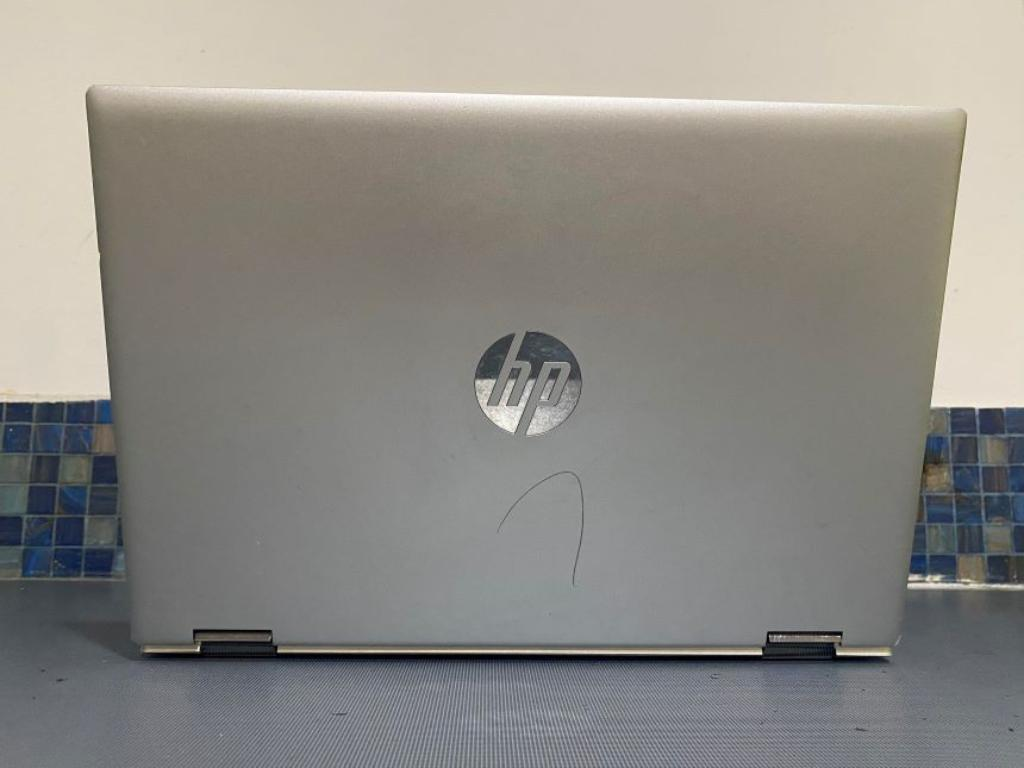scratch: (494, 469, 586, 589)
